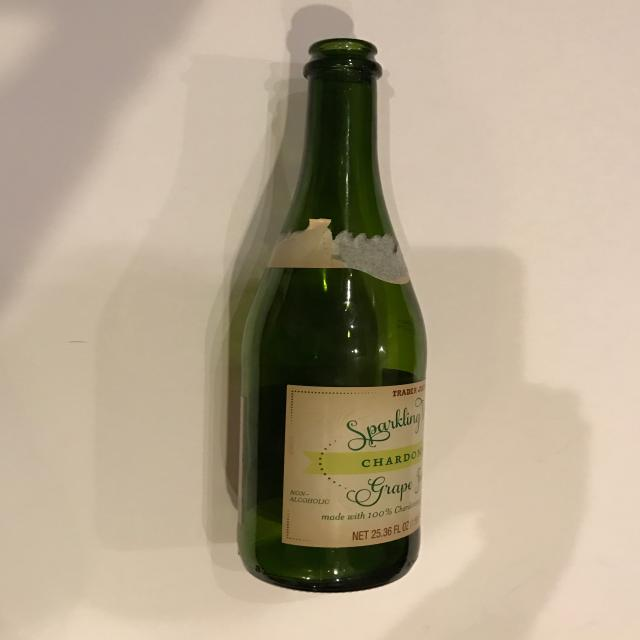glass: (236, 37, 428, 593)
